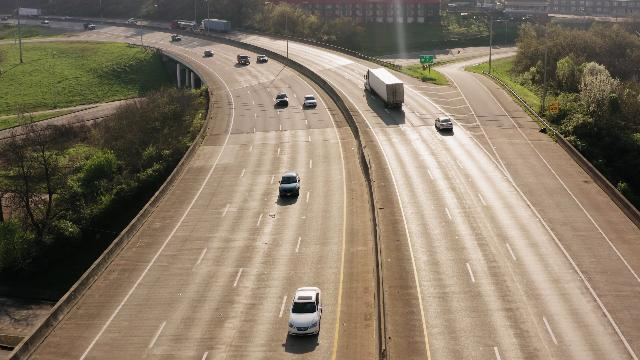car: (286, 286, 327, 342), (276, 172, 302, 202), (436, 116, 456, 134), (302, 93, 319, 109), (276, 91, 291, 109), (255, 51, 268, 62), (172, 33, 182, 42), (205, 51, 213, 57), (41, 19, 48, 23)
pickup-truck: (84, 21, 98, 30), (127, 17, 139, 23)
truck: (363, 67, 407, 113), (201, 18, 233, 33), (169, 19, 197, 32), (13, 8, 45, 17)
van: (235, 53, 250, 67)
